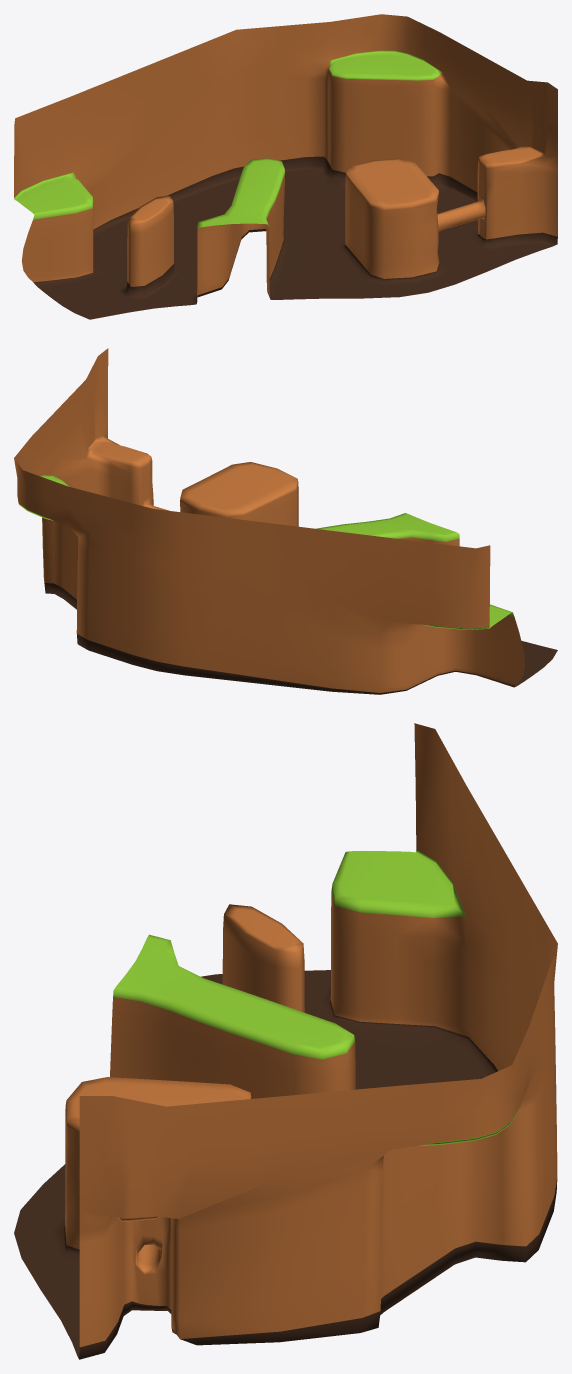
3 renders of one model, top to bottom at view 1: azimuth 30°, elevation 25°; view 2: azimuth 150°, elevation 25°; view 3: azimuth 270°, elevation 25°, orthographic. The views are drawn at different scales.
Visible parts, largest first — view 1: pCube5; view 2: pCube5; view 3: pCube5.
Part boxes in pixels (bbox=[...]): pCube5: bbox=[14, 14, 557, 319]; pCube5: bbox=[14, 348, 557, 694]; pCube5: bbox=[14, 723, 557, 1359].
Bounding box in the file's own units: 382 × 125 × 231.
Materials: 1 (1 with a texture image).
